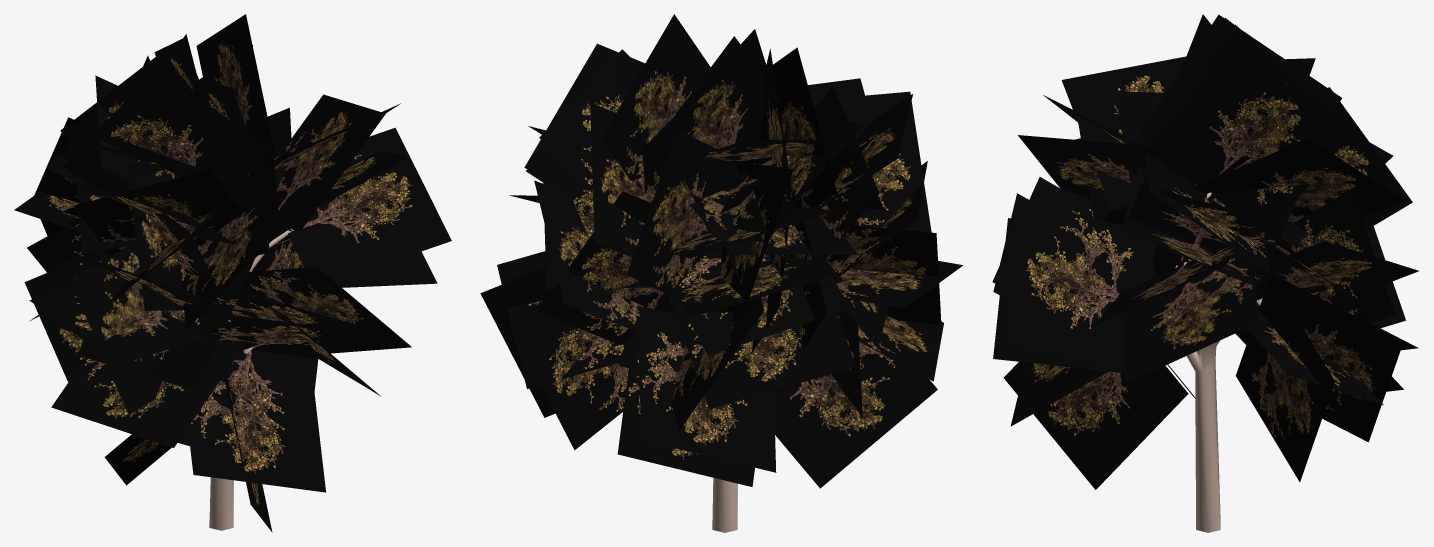
Rendered from tree31.glb.
3 renders of one model, left to right at view 1: azimuth 30°, elevation 25°; view 2: azimuth 150°, elevation 25°; view 3: azimuth 270°, elevation 25°, orthographic. The views are drawn at different scales.
Size of the model in its own units: 5.77 by 7.35 by 5.72.
2 materials, 1 textured.
